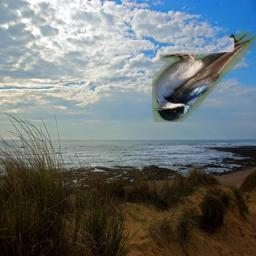Swallow: (152, 29, 255, 122)
